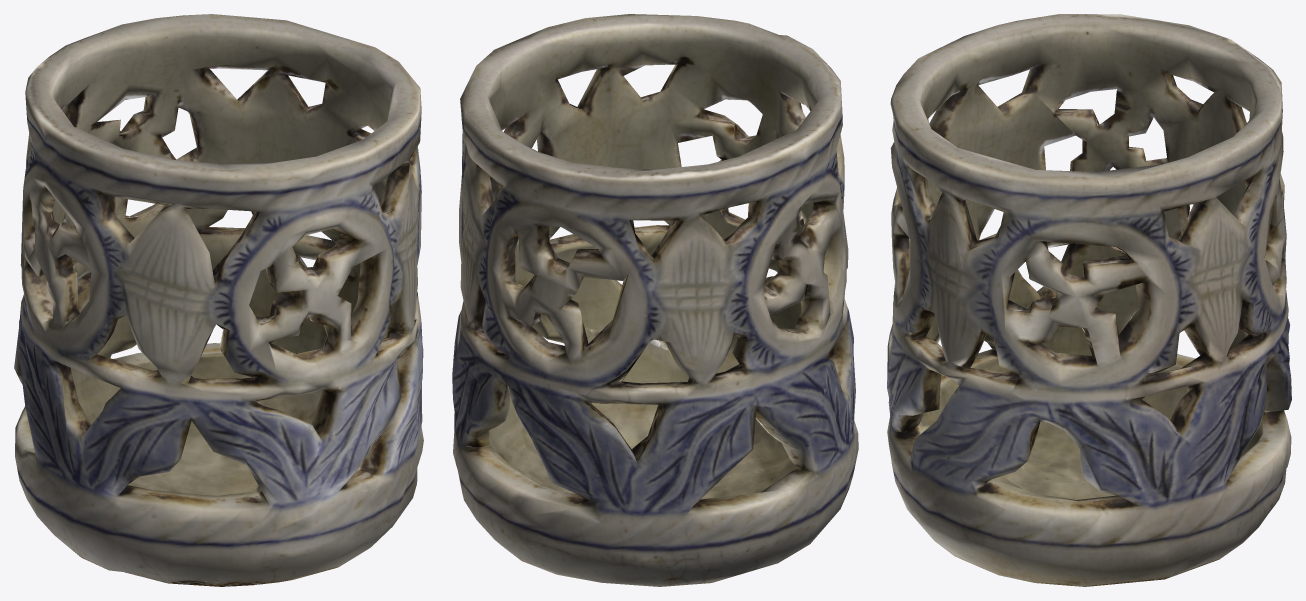
File: SM_Brush_Holder_02.fbx
The picture shows the model from 3 angles, left to right: view 1: azimuth 30°, elevation 25°; view 2: azimuth 150°, elevation 25°; view 3: azimuth 270°, elevation 25°; orthographic projection.
Visible parts, largest first — view 1: KCDF_2022_prop_Brush_Holder_02_Mesh; view 2: KCDF_2022_prop_Brush_Holder_02_Mesh; view 3: KCDF_2022_prop_Brush_Holder_02_Mesh.
Boxes of the visible parts, box(x1,y1,x2,y2) form: KCDF_2022_prop_Brush_Holder_02_Mesh: box(14, 14, 423, 586); KCDF_2022_prop_Brush_Holder_02_Mesh: box(452, 14, 858, 586); KCDF_2022_prop_Brush_Holder_02_Mesh: box(887, 14, 1291, 586).
Bounding box in the file's own units: 24.4 × 28.27 × 24.32.
1 material, 1 textured.
